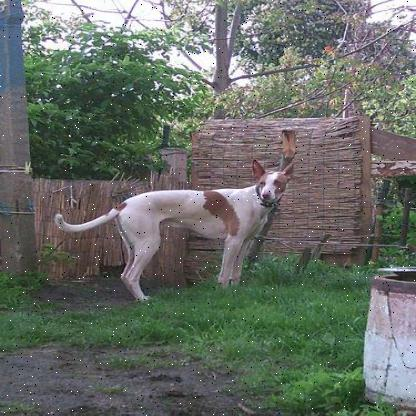dog: (49, 159, 305, 307)
